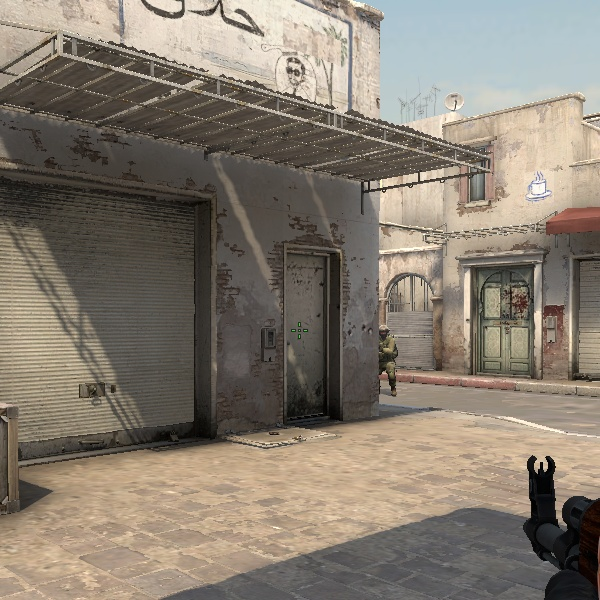ct_body: (370, 323, 404, 398)
